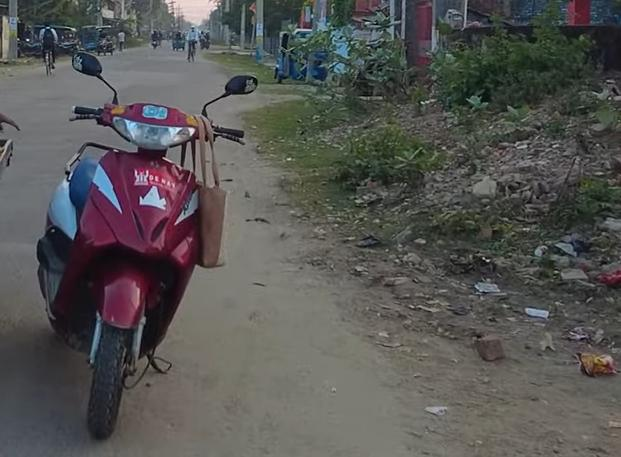scooter: (35, 41, 259, 440)
